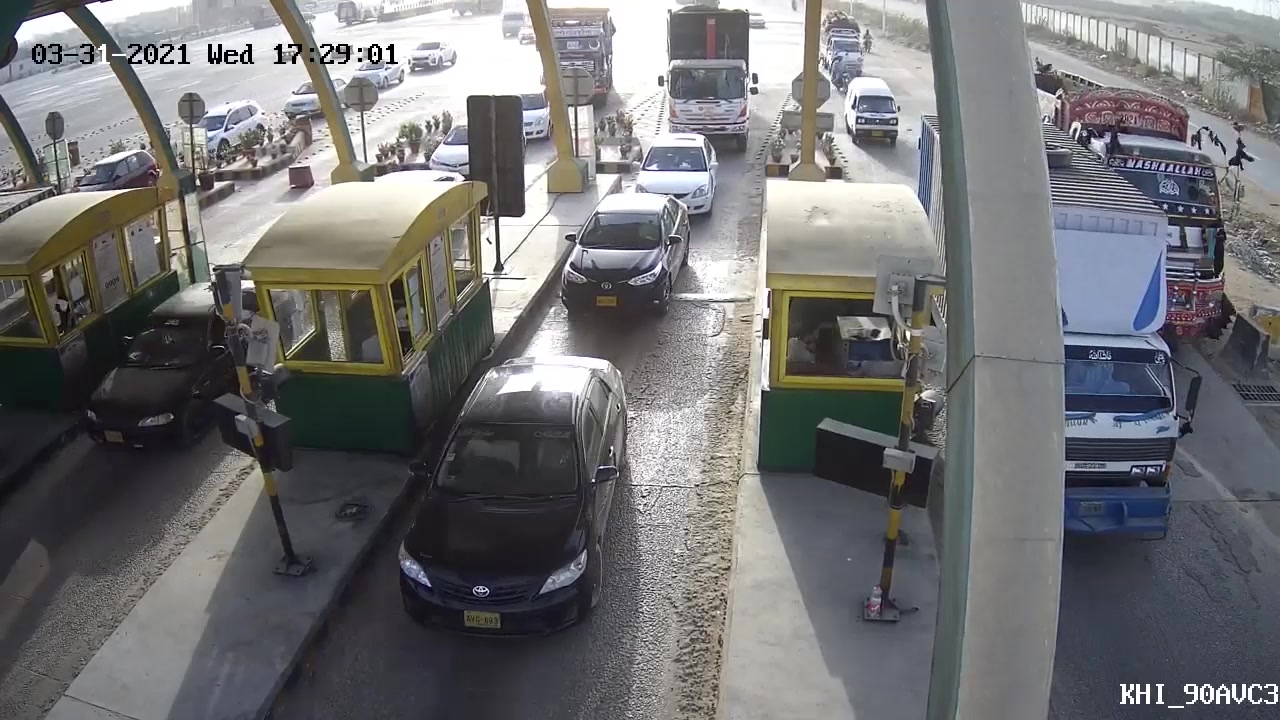F1: (546, 190, 691, 331)
